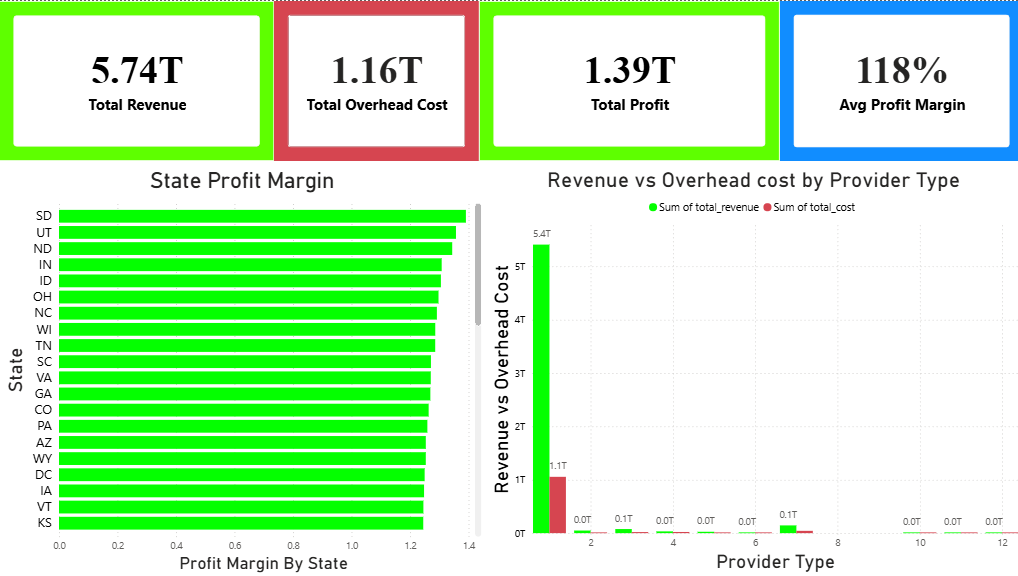

Layout of this report page (visuals, bound fields, positions):
{"tool":"powerbi","page":{"name":"KPI","canvas":[1280,720],"ordinal":0},"visuals":[{"type":"cardVisual","fields":{"Data":["public claims.Total Revenue"]},"box":[0,0,344,200],"z":0},{"type":"cardVisual","fields":{"Data":["public claims.Total Cost"]},"box":[344,0,256,200],"z":1000},{"type":"cardVisual","fields":{"Data":["public claims.Total Profit"]},"box":[600,0,376,200],"z":2000},{"type":"cardVisual","fields":{"Data":["public claims.Avg Profit Margin"]},"box":[976,0,304,200],"z":3000},{"type":"tableEx","fields":{"Values":["public hospital_costs.state","public hospital_costs.provider_name","Sum(public hospital_costs.total_revenue)","Sum(public hospital_costs.total_cost)","Sum(public hospital_costs.profit_margin)"]},"box":[0,240,344,200],"z":4000},{"type":"clusteredBarChart","title":"State Profit Margin","fields":{"Category":["public hospital_costs.state"],"Y":["public claims.State Profit Margin"]},"box":[0,208,608,512],"z":5000},{"type":"clusteredColumnChart","title":"Revenue vs Overhead cost by Provider Type","fields":{"Category":["public hospital_costs.provider_type"],"Y":["Sum(public hospital_costs.total_revenue)","Sum(public hospital_costs.total_cost)"]},"box":[608,208,672,512],"z":6000}]}

Visuals, with their boxes in screenshot pixels (x1, y1, x2, y2), scaled from the page's 1280x720 canvas onto the 1018x576 screenshot:
cardVisual - public claims.Total Revenue: crop(0, 0, 274, 160)
cardVisual - public claims.Total Cost: crop(274, 0, 477, 160)
cardVisual - public claims.Total Profit: crop(477, 0, 776, 160)
cardVisual - public claims.Avg Profit Margin: crop(776, 0, 1017, 160)
tableEx - public hospital_costs.state x public hospital_costs.provider_name: crop(0, 192, 274, 352)
"State Profit Margin" clusteredBarChart: crop(0, 166, 484, 575)
"Revenue vs Overhead cost by Provider Type" clusteredColumnChart: crop(484, 166, 1017, 575)
